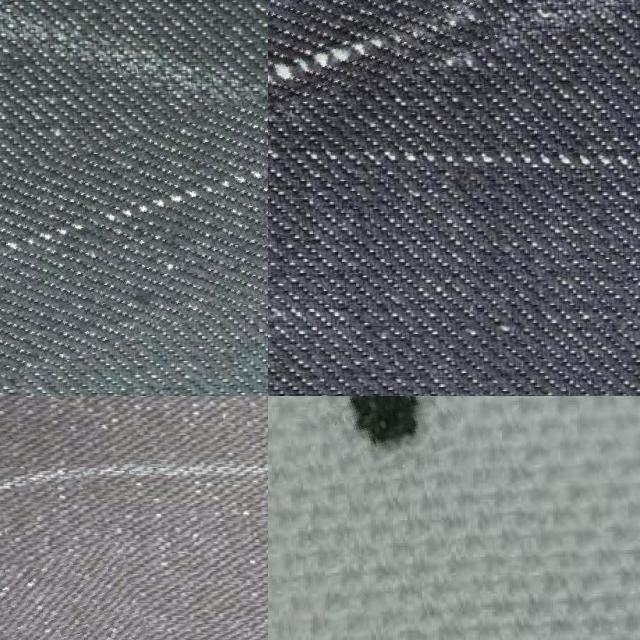Hole: (306, 396, 458, 473)
Thread_other: (0, 94, 268, 380), (268, 128, 639, 211), (268, 0, 491, 117), (11, 543, 187, 640)
